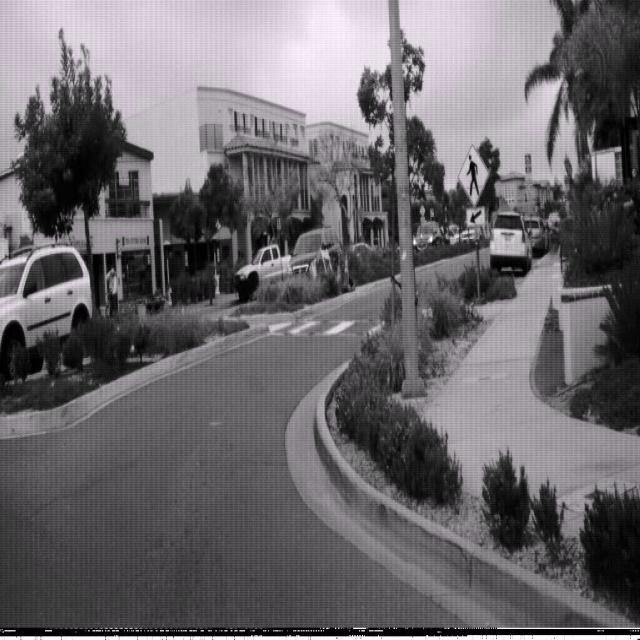pedestrianCrossing: (457, 142, 490, 208)
